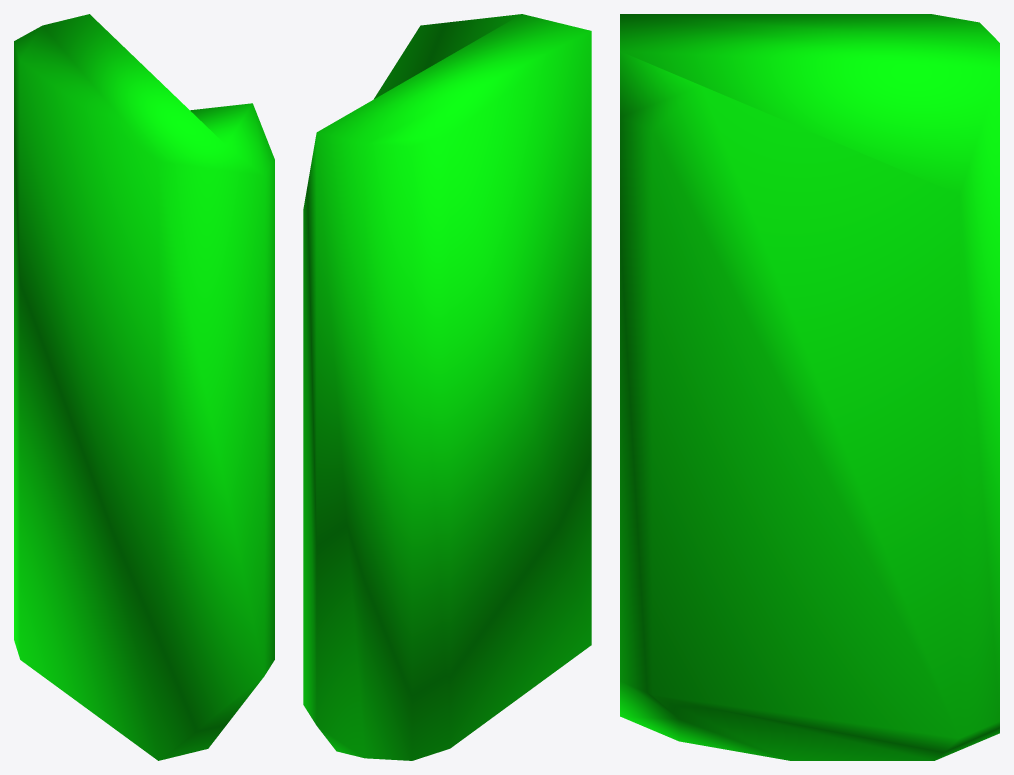
Rendered from Green_Crystal_05.fbx.
3 renders of one model, left to right at view 1: azimuth 30°, elevation 25°; view 2: azimuth 150°, elevation 25°; view 3: azimuth 270°, elevation 25°, orthographic. The views are drawn at different scales.
Parts seen in each view (by area): view 1: Green_Crystal_05; view 2: Green_Crystal_05; view 3: Green_Crystal_05.
Part boxes in pixels (x1=…): Green_Crystal_05: x1=14, y1=14, x2=274, y2=760; Green_Crystal_05: x1=303, y1=14, x2=591, y2=760; Green_Crystal_05: x1=620, y1=14, x2=999, y2=760.
Size of the model in its own units: 0.3577 by 1.57 by 0.7986.
